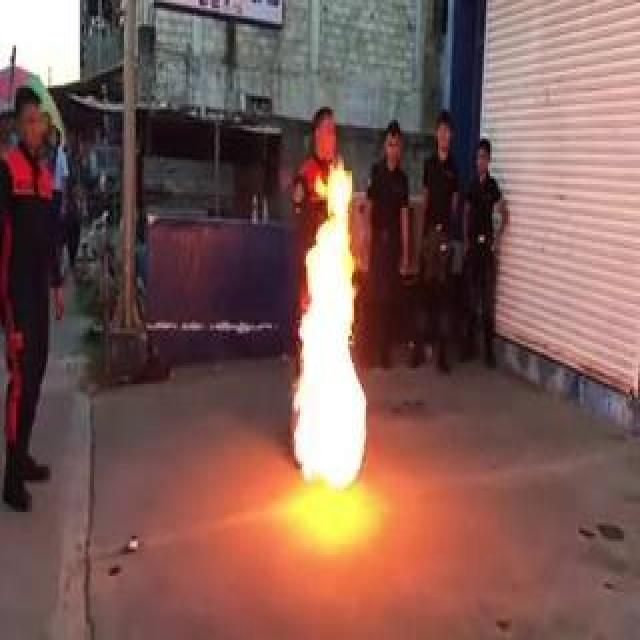Fire: (282, 160, 370, 491)
